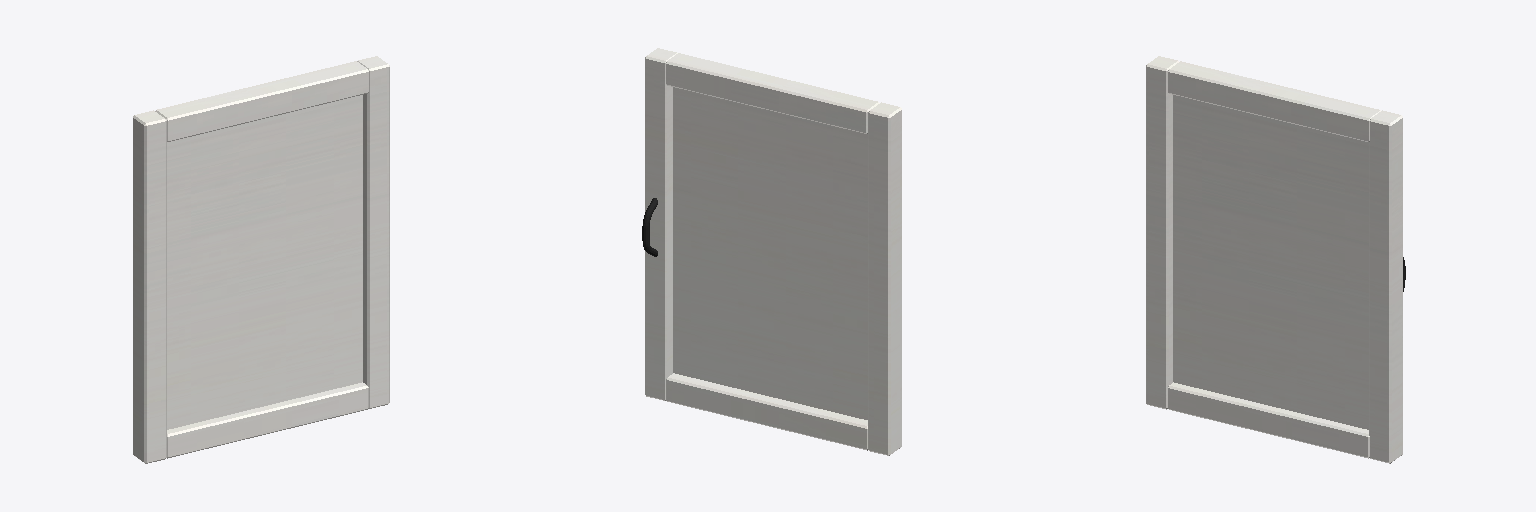
3 views of the same model, side by side, from view 1: azimuth 30°, elevation 25°; view 2: azimuth 150°, elevation 25°; view 3: azimuth 330°, elevation 25° (orthographic).
Parts seen in each view (by area): view 1: Object084, Object085; view 2: Object084, Object085; view 3: Object084, Object085.
Boxes of the visible parts, x1=… form: Object084: x1=167, y1=95, x2=362, y2=429; Object085: x1=133, y1=56, x2=389, y2=463; Object084: x1=673, y1=87, x2=867, y2=419; Object085: x1=645, y1=48, x2=901, y2=455; Object084: x1=1173, y1=95, x2=1368, y2=429; Object085: x1=1146, y1=56, x2=1402, y2=463.
Size of the model in its own units: 428 by 566 by 72.94.
3 materials, 1 textured.